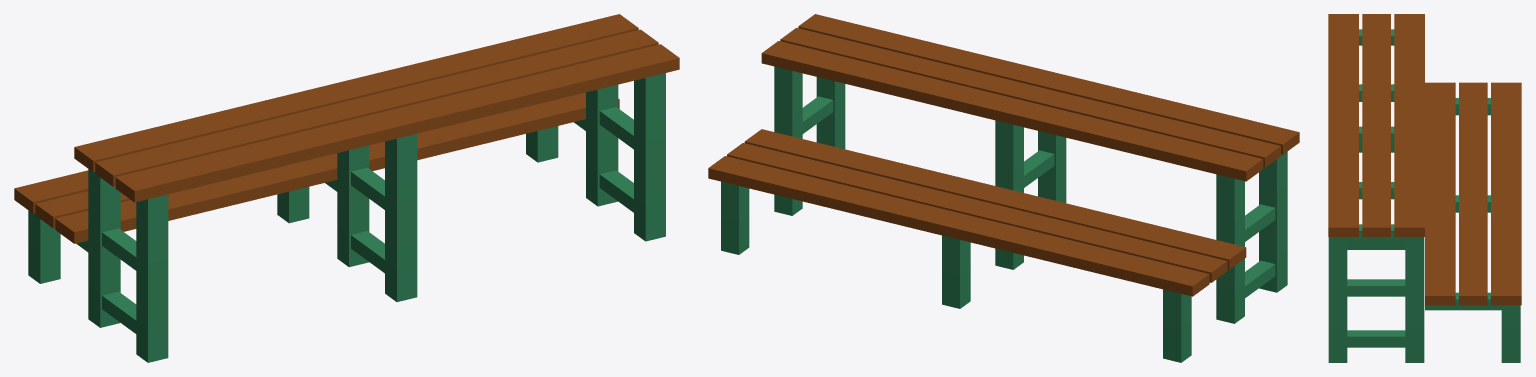
The model's file is Bench_1_C_1.fbx.
The picture shows the model from 3 angles, left to right: view 1: azimuth 30°, elevation 25°; view 2: azimuth 150°, elevation 25°; view 3: azimuth 270°, elevation 25°; orthographic projection. The views are drawn at different scales.
Visible parts, largest first — view 1: Bench_1_C_1; view 2: Bench_1_C_1; view 3: Bench_1_C_1.
Part boxes in pixels (x1,y1,x2,y2): Bench_1_C_1: (14,14,679,362); Bench_1_C_1: (708,14,1299,362); Bench_1_C_1: (1328,14,1521,362).
Size of the model in its own units: 213 by 65.4 by 81.37.
